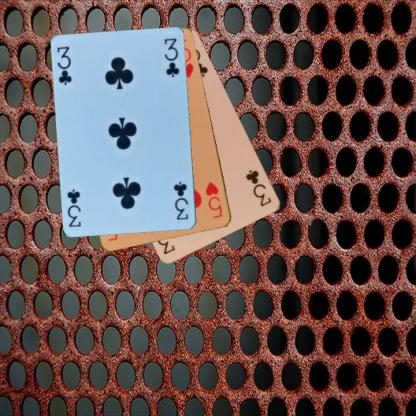3c: (244, 167, 274, 208), (54, 44, 74, 87), (172, 180, 190, 221)
5h: (202, 179, 223, 220)
